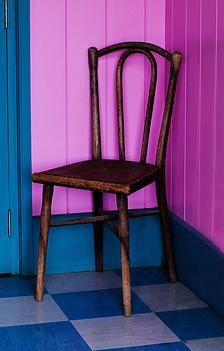obstacle: (32, 42, 181, 316)
